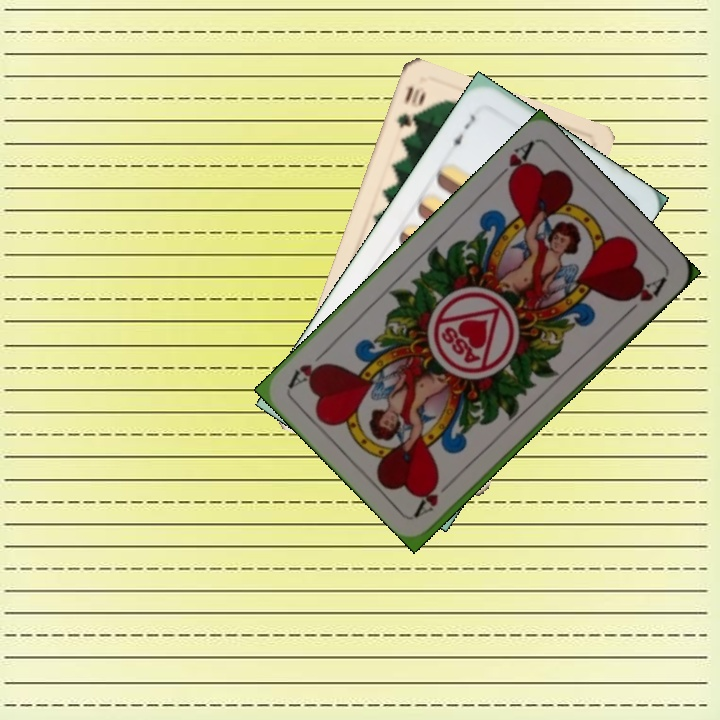E7: (444, 110, 479, 153)
G10: (392, 82, 427, 131)
HA: (490, 137, 536, 189), (411, 473, 460, 519)
